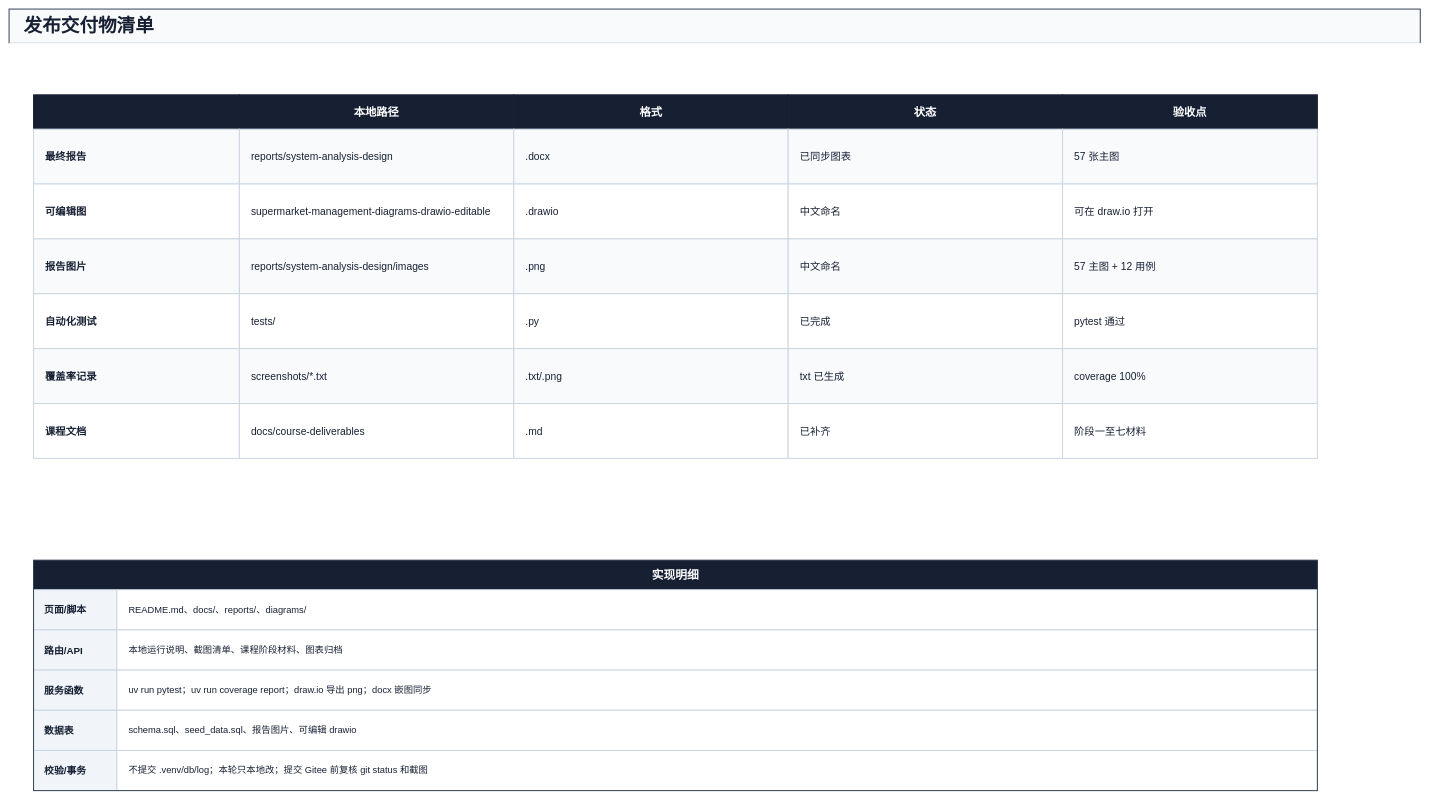
Some shapes in this 1429 by 799 pixel diagram are drawn without their labels. The centre of each missing label's shape, as x and y in pixels:
"交付项" belongs at point (136, 111).
"矩阵图｜职责、实现入口、验收证据" belongs at point (714, 53).
